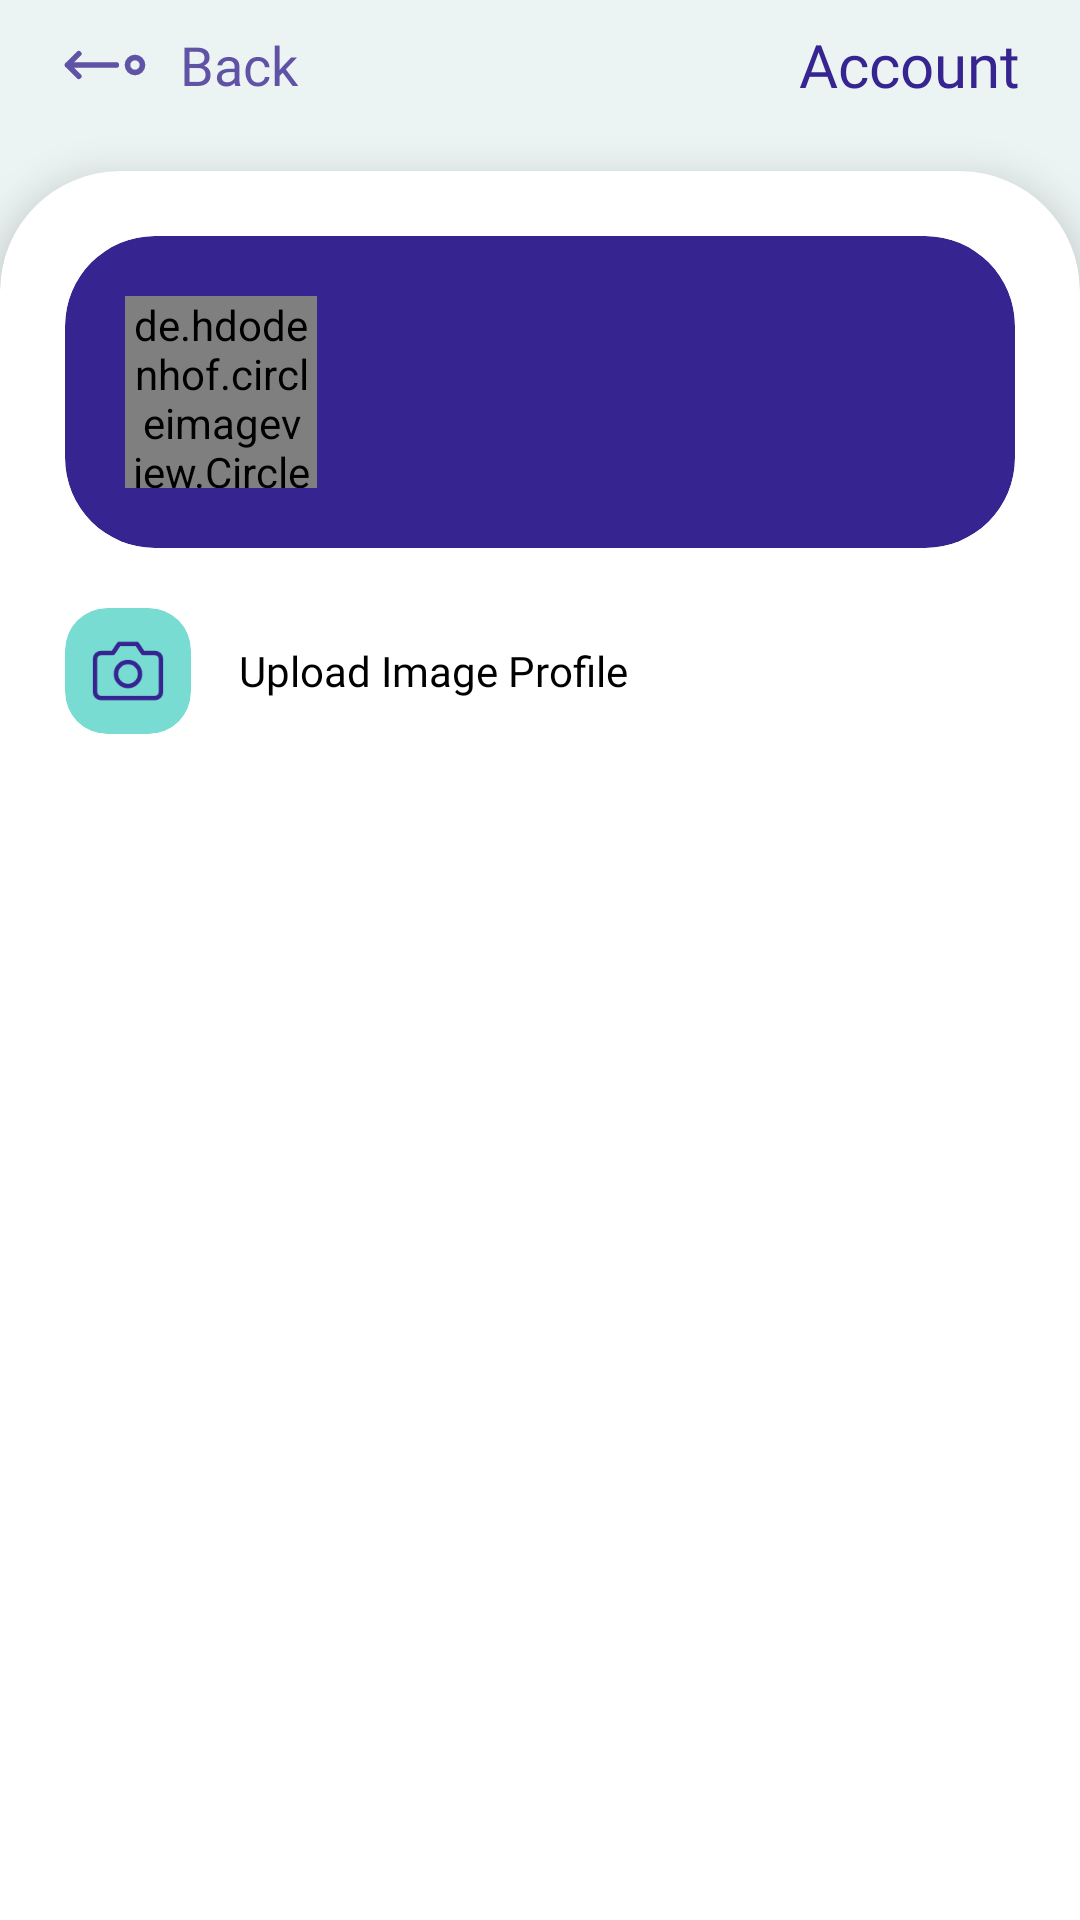

Screen size 1080*1920. Icon name, then its center in pixels as (x=x, y=y):
camera: (x=128, y=671)
dot arrow left: (x=105, y=65)
